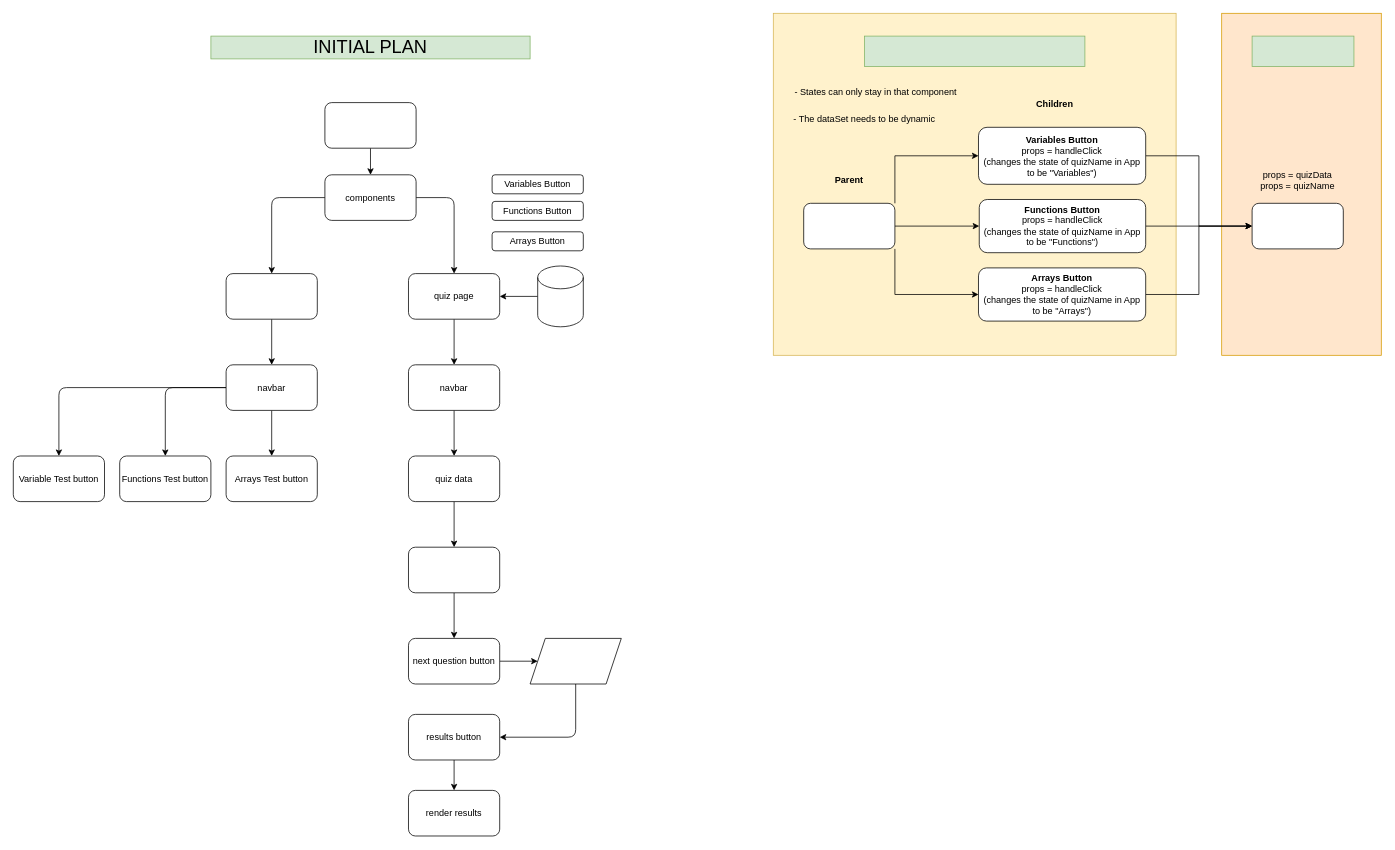
Image size: 1395x850. Some labels were removed from this diagram. The shapes that lost their labels are listed below. From the top down, each one's box as (x1, y1, x2, y2) in pixels, then its label:
(864, 35, 1085, 66): App.js
(1251, 35, 1354, 66): Quiz.js
(324, 102, 416, 148): App
(803, 203, 895, 249): App function State = quizName
(1251, 203, 1343, 249): quiz function
(225, 273, 317, 319): home page
(537, 265, 583, 327): Quiz Data x3
(408, 546, 500, 593): render question
(529, 638, 621, 684): Count of 5 questions then show results button
